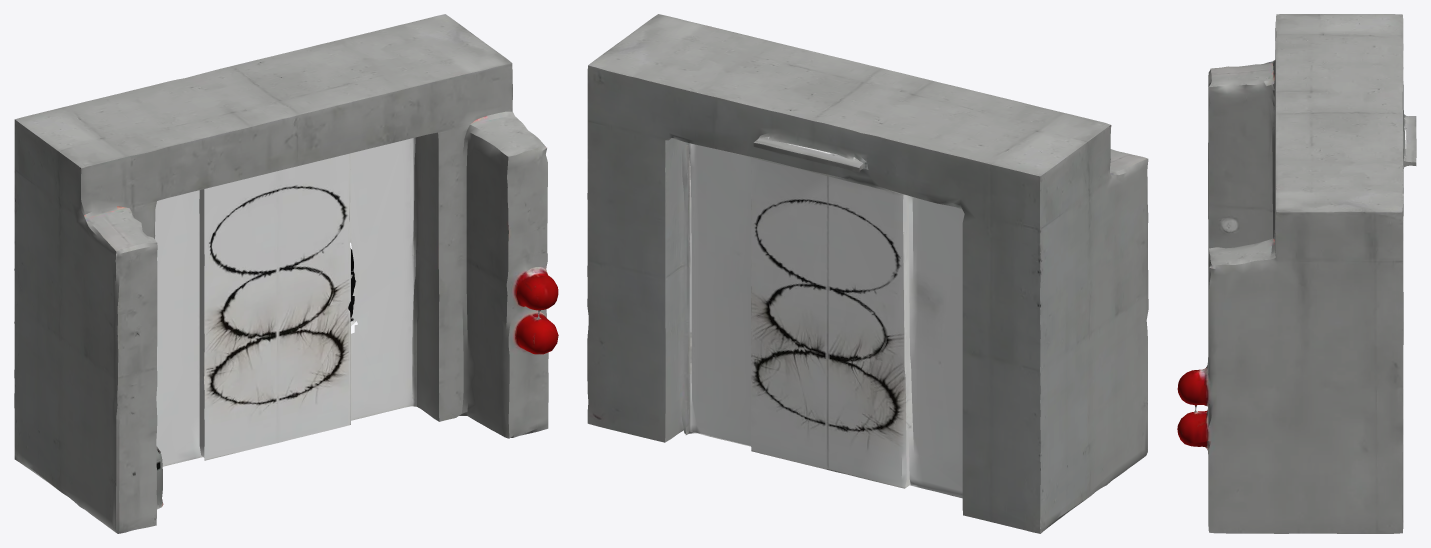
The model's file is door_1.glb.
3 views of the same model, side by side, from view 1: azimuth 30°, elevation 25°; view 2: azimuth 150°, elevation 25°; view 3: azimuth 270°, elevation 25° (orthographic). The views are drawn at different scales.
Parts seen in each view (by area): view 1: Door_1; view 2: Door_1; view 3: Door_1.
Part boxes in pixels (x1,y1,x2,y2): Door_1: (14, 14, 558, 533); Door_1: (587, 14, 1148, 533); Door_1: (1177, 14, 1416, 533).
Size of the model in its own units: 0.6408 by 0.4885 by 0.3257.
Materials: 1 (1 with a texture image).
